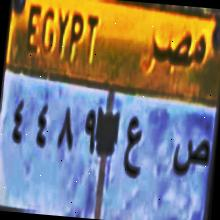4: (8, 96, 27, 150), (33, 101, 50, 154)
8: (57, 104, 75, 158)
9: (81, 103, 100, 163)
ain: (121, 109, 145, 185)
saad: (169, 129, 211, 183)
